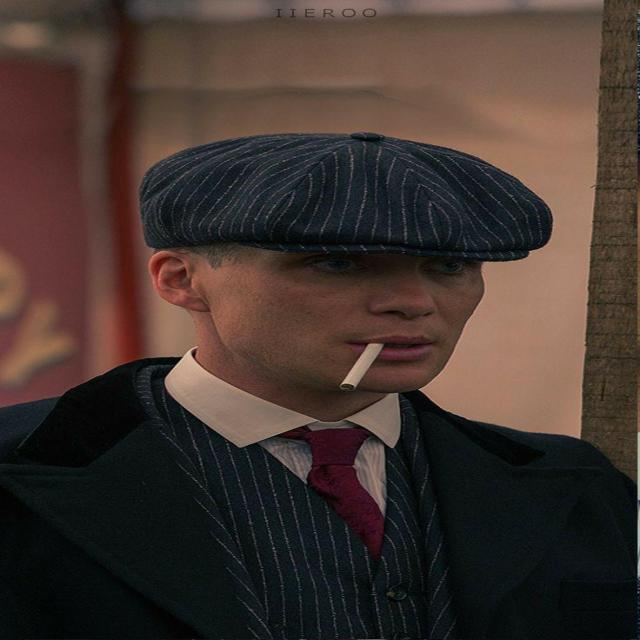cigarette: (322, 327, 422, 420)
